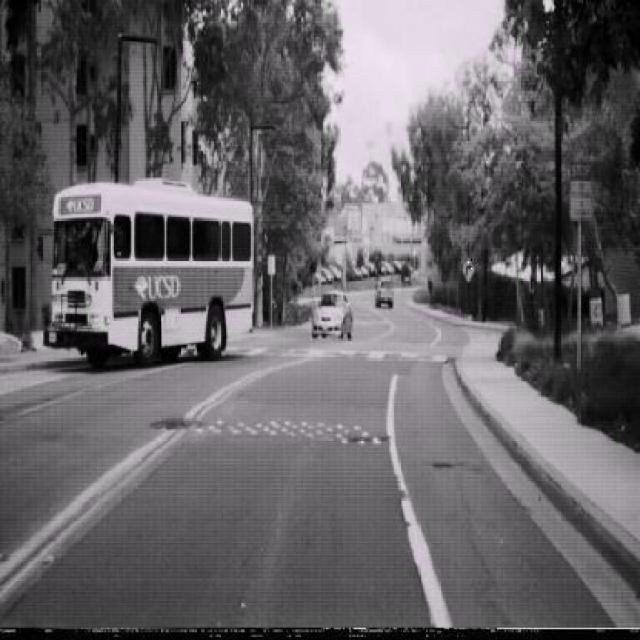turnRight: (462, 257, 474, 282)
